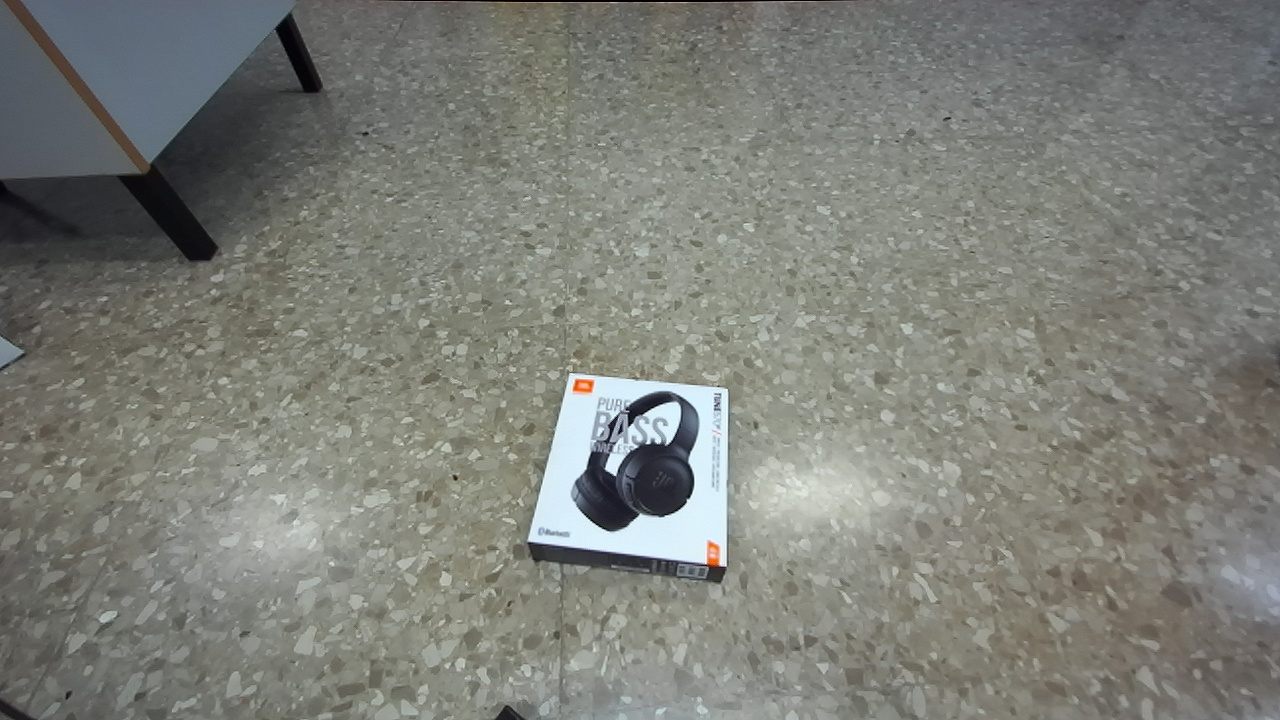caja_chasis: (527, 373, 728, 581)
